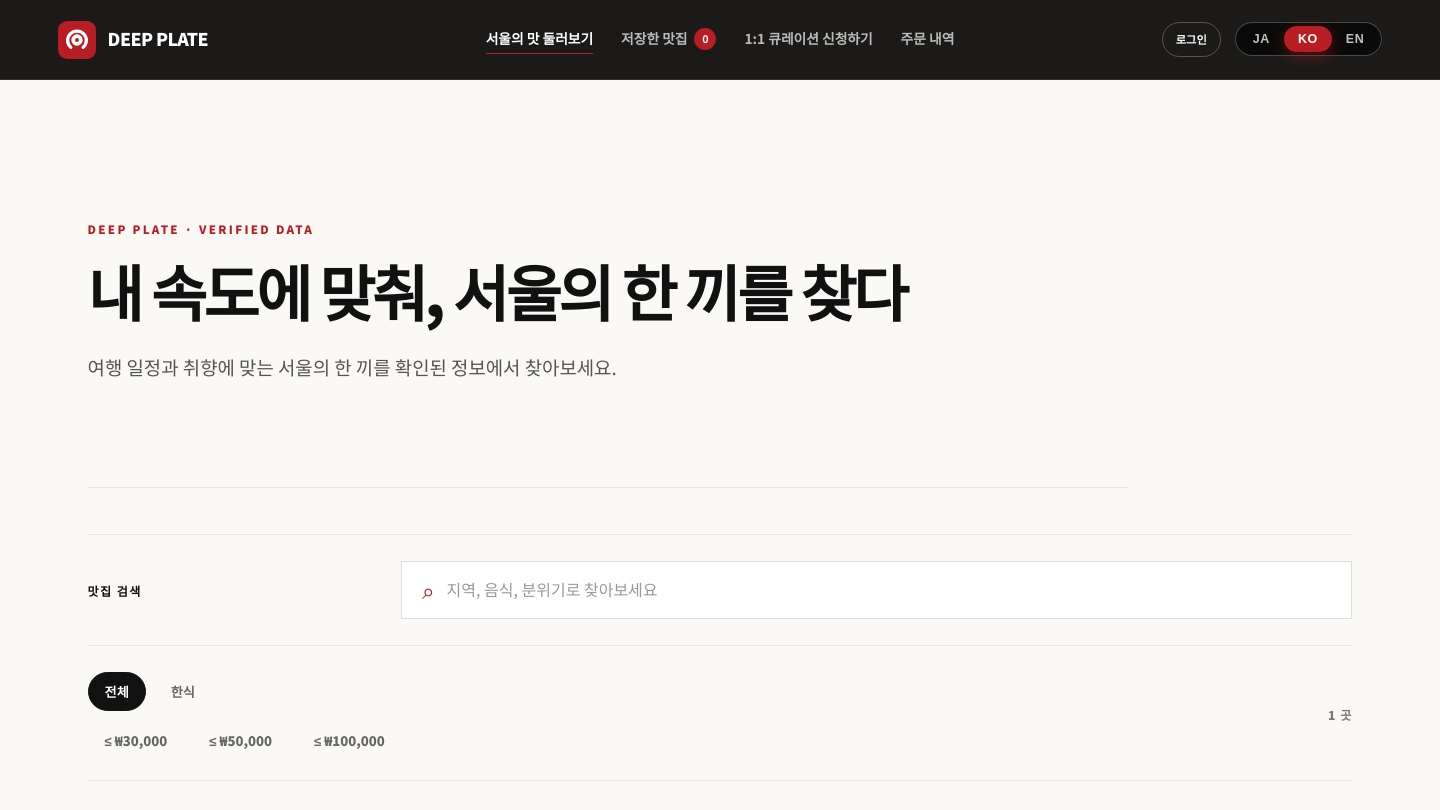
Test: Deep Plate 주요 사용자 흐름 › 검색어에 맞는 API 식당만 보여준다
Step 1. Type "없는 지역" into the search field labelled "맛집 검색" → [889, 590], box [446,577,1331,603]
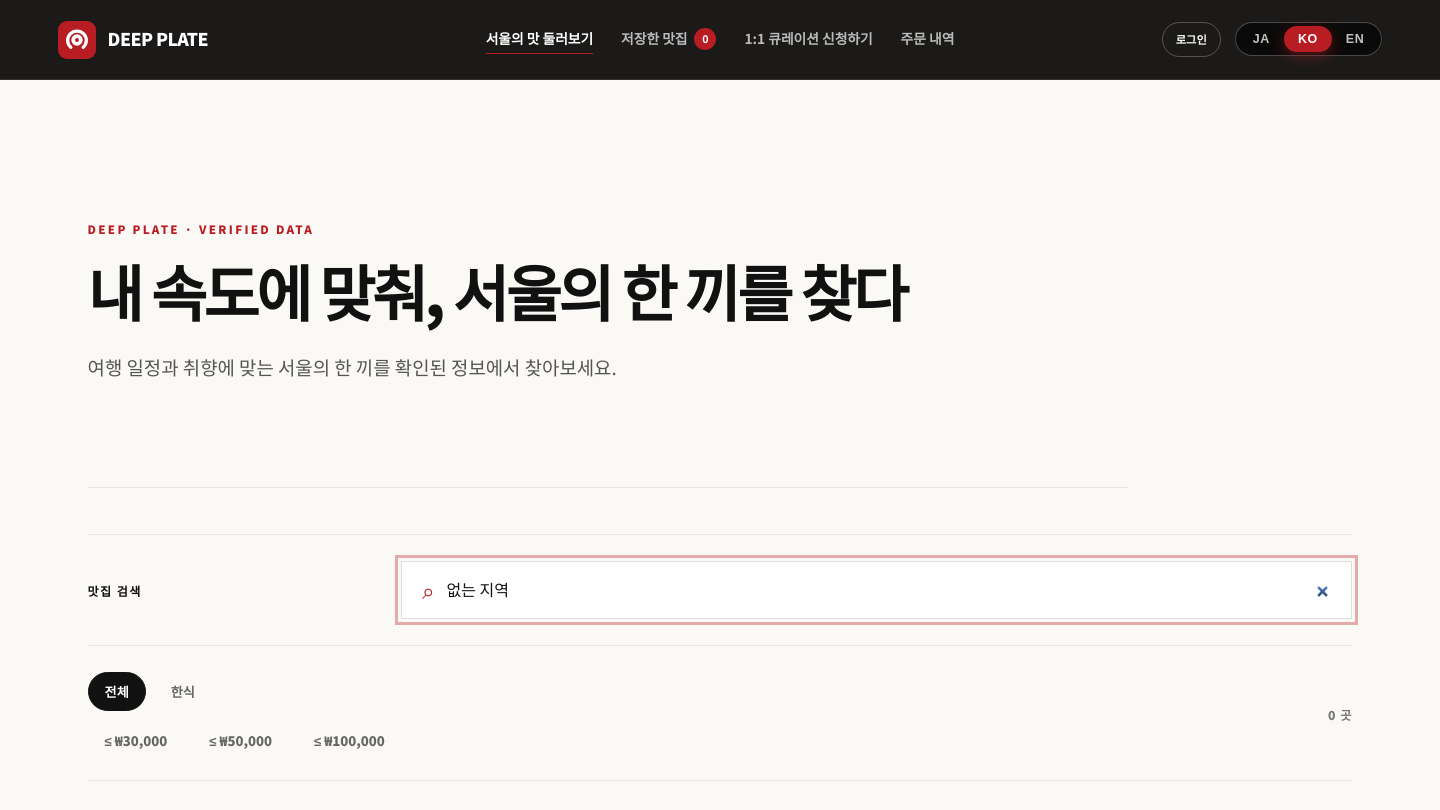
Step 2. Clear the search field labelled "맛집 검색" → [889, 590], box [446,577,1331,603]
(page scrolled)
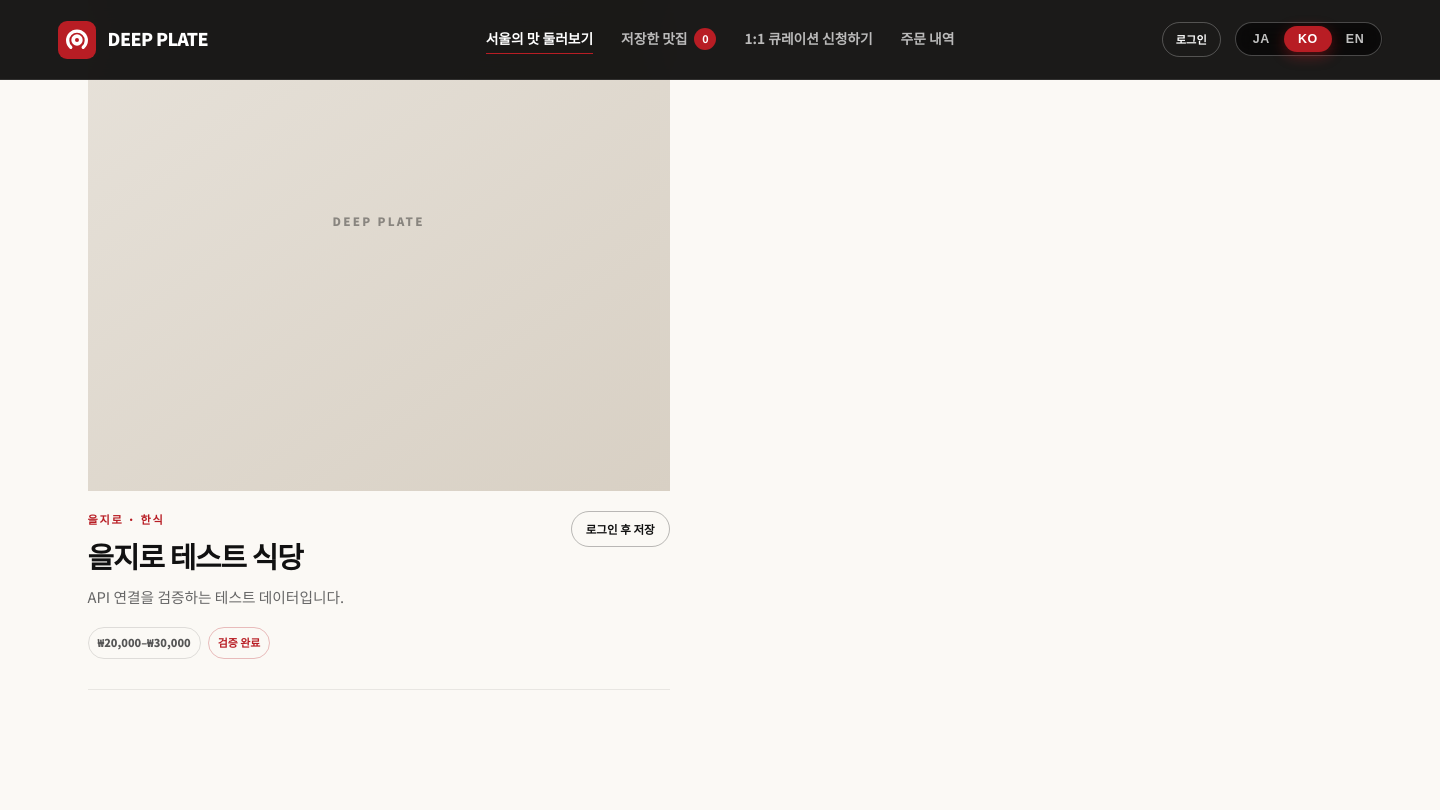
Expected: the heading "을지로 테스트 식당" is shown, [88,535,303,576]
